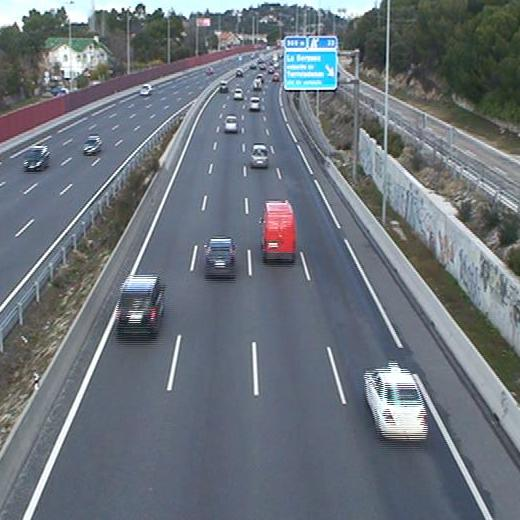car: (364, 366, 428, 442), (115, 274, 164, 341), (205, 237, 233, 277), (250, 144, 270, 167), (224, 114, 239, 134), (249, 97, 261, 110), (217, 81, 229, 94), (232, 88, 245, 100), (253, 79, 263, 91), (234, 69, 244, 79)
van: (262, 200, 295, 264)
